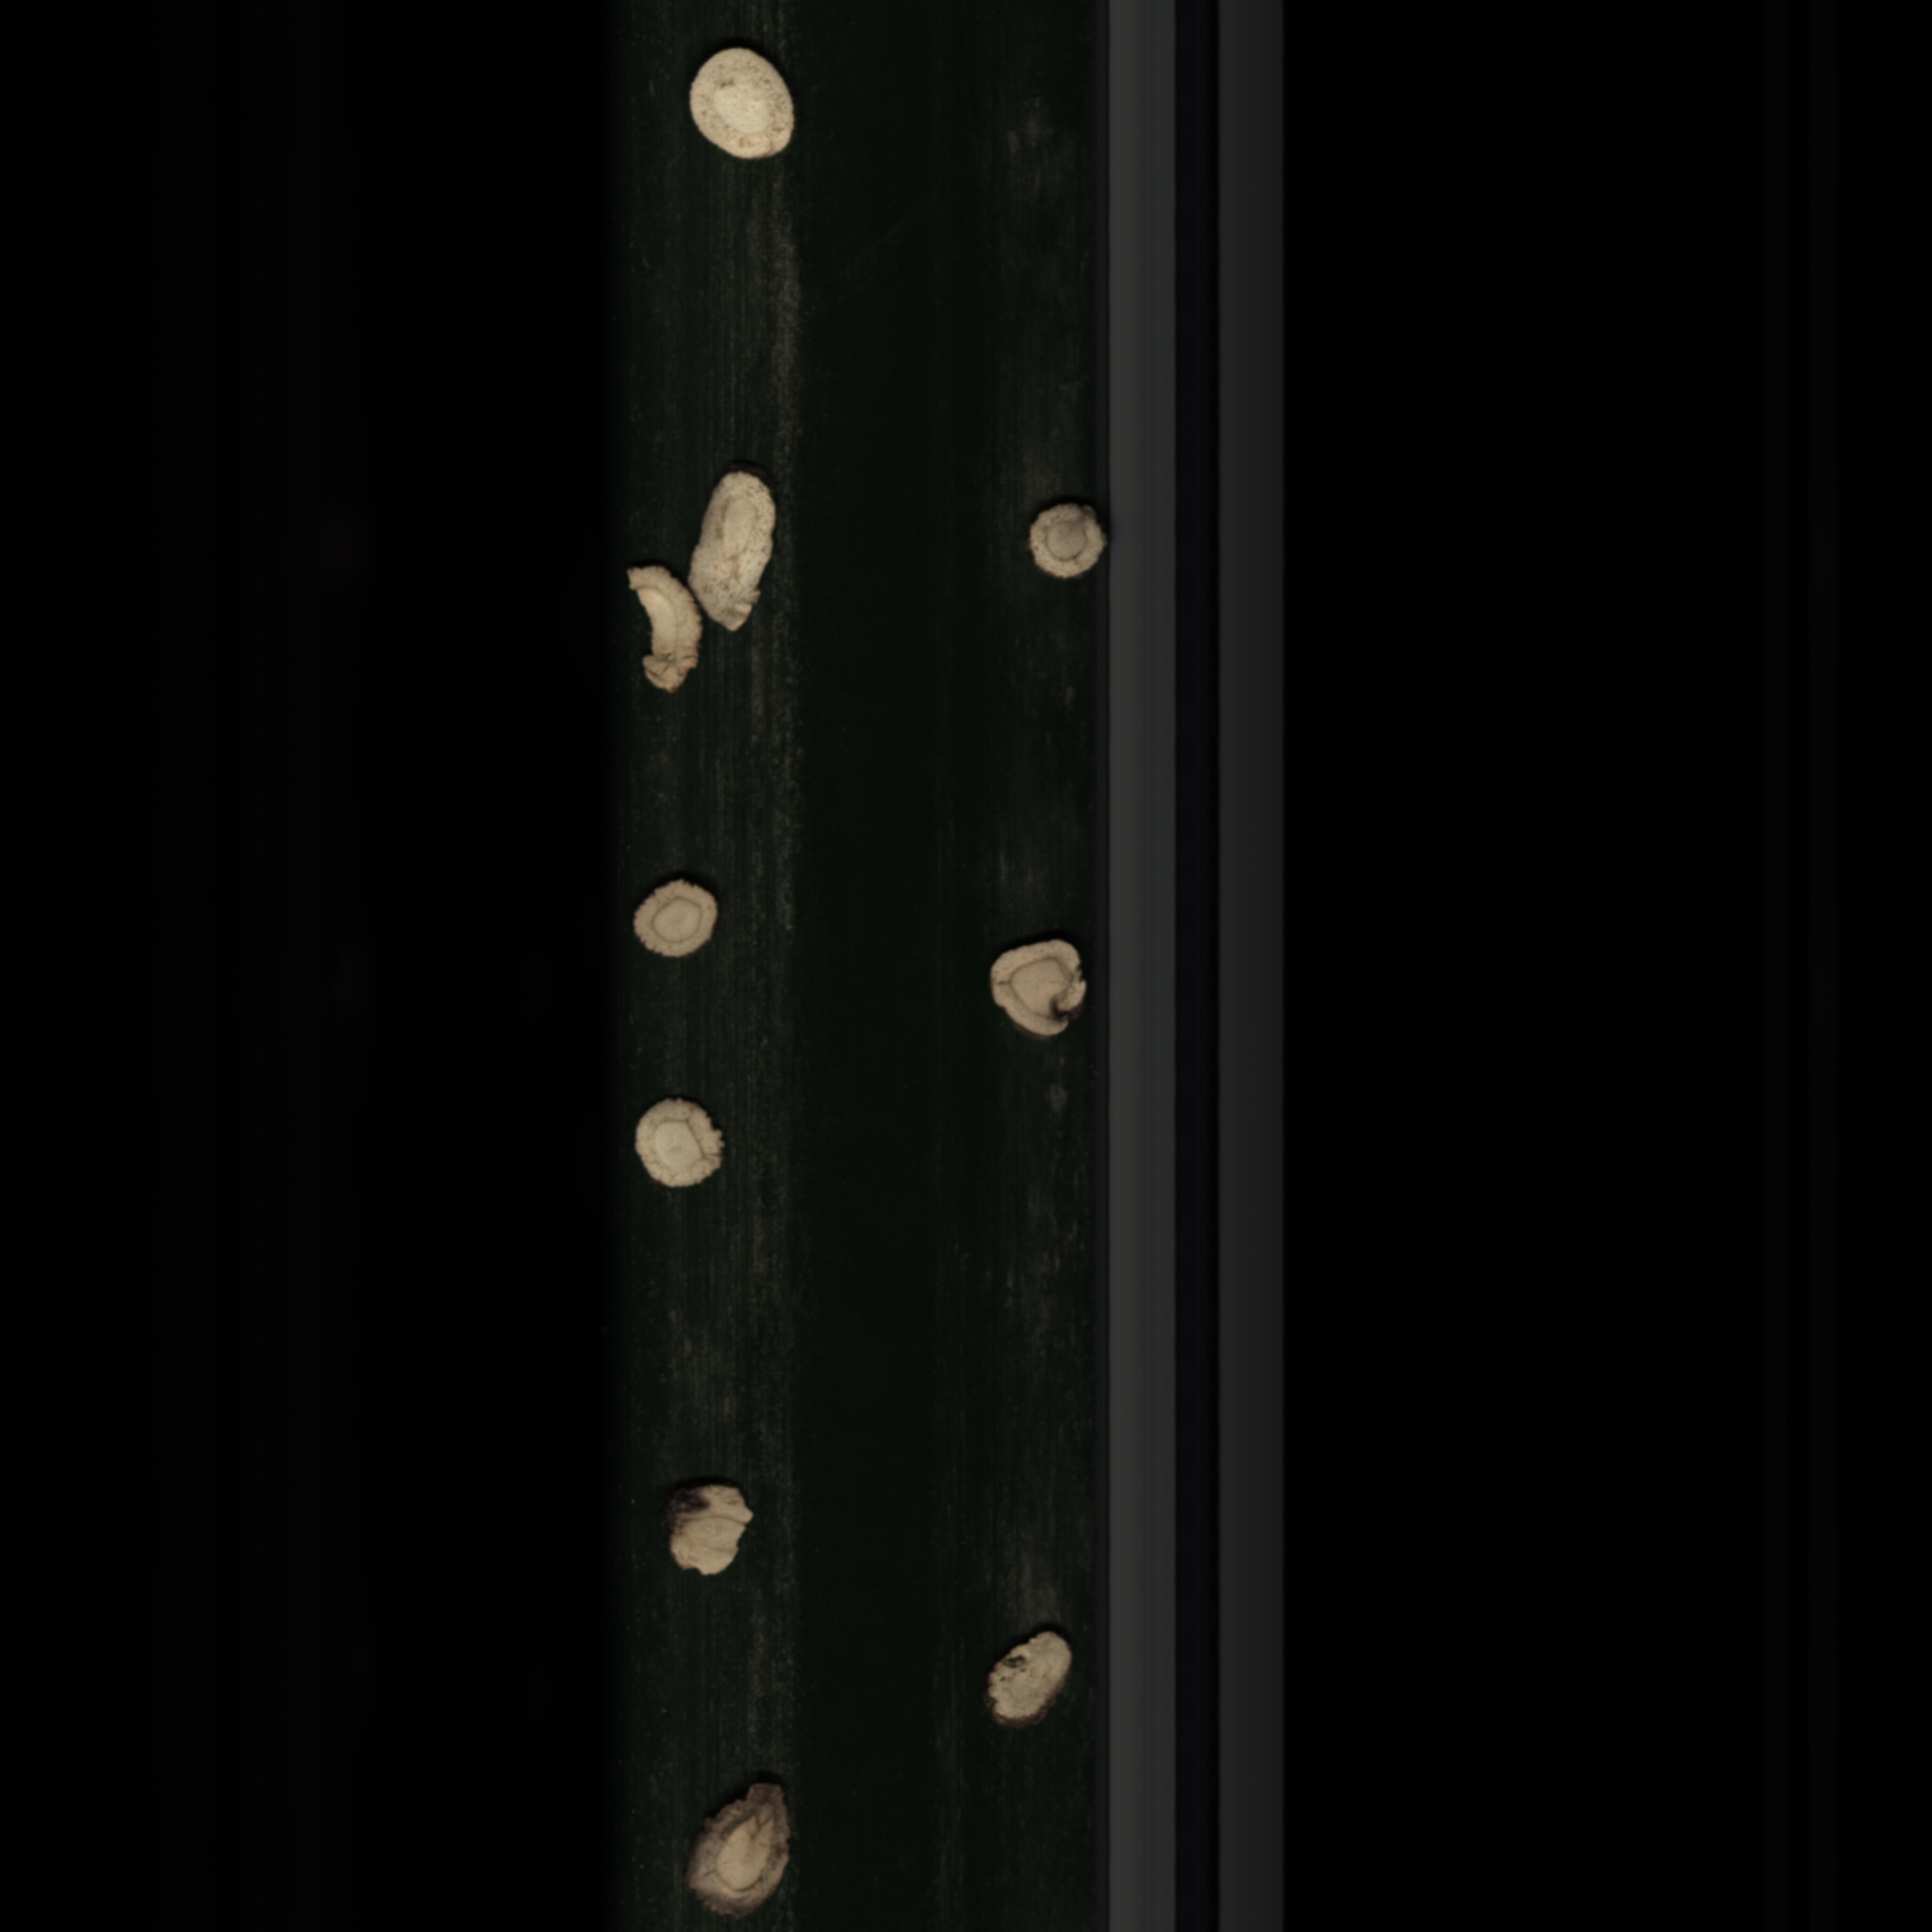debris: (683, 467, 784, 640), (612, 563, 706, 709), (660, 1479, 763, 1598)
distortion: (985, 927, 1097, 1047)
moldy: (669, 1764, 817, 1916)
